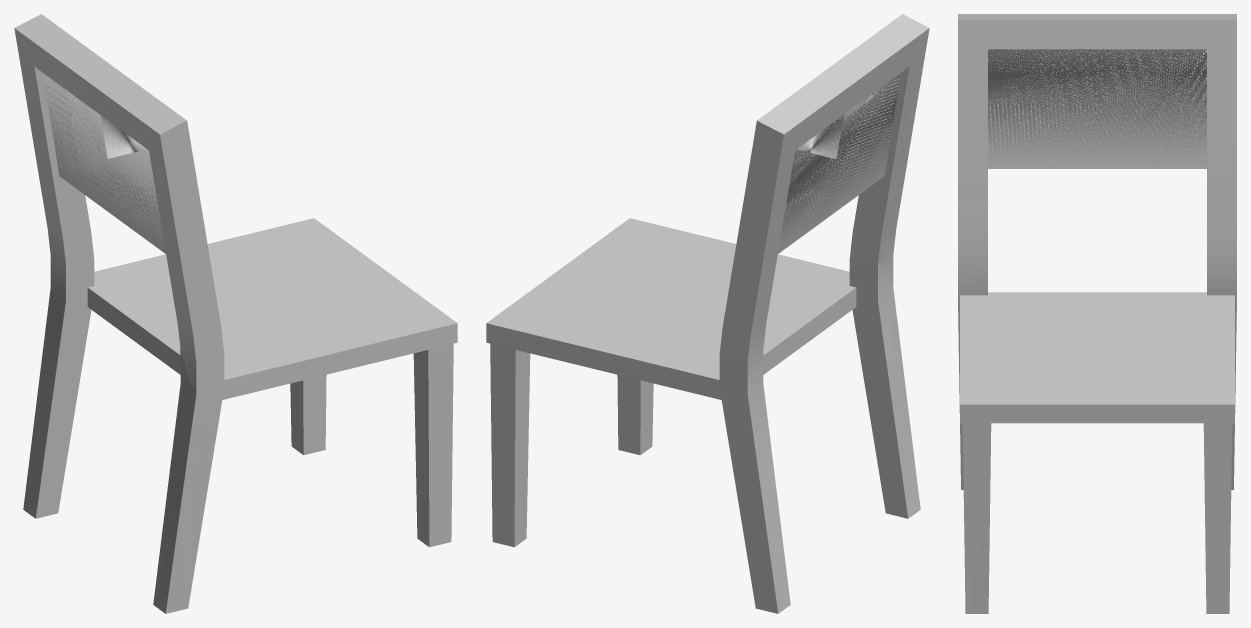
The model's file is Chair 1.fbx.
3 renders of one model, left to right at view 1: azimuth 30°, elevation 25°; view 2: azimuth 150°, elevation 25°; view 3: azimuth 270°, elevation 25°, orthographic. The views are drawn at different scales.
Parts seen in each view (by area): view 1: TeaChair_04.005, TeaChair_04.003, TeaChair_04.003_cell.003, TeaChair_04.004, TeaChair_04.003_cell.004, TeaChair_04.003_cell.005, TeaChair_04.005_cell.002, TeaChair_04.003_cell.001, TeaChair_04.005_cell.003, TeaChair_04.001_cell.001, TeaChair_04.002, TeaChair_04.005_cell.001 (+6 smaller); view 2: TeaChair_04.003, TeaChair_04.005, TeaChair_04.004, TeaChair_04.002, TeaChair_04.005_cell.003, TeaChair_04.003_cell.003, TeaChair_04.003_cell.002, TeaChair_04.003_cell.004, TeaChair_04.001, TeaChair_04.003_cell.001, TeaChair_04.005_cell.001, TeaChair_04.004_cell.002 (+2 smaller); view 3: TeaChair_04.005, TeaChair_04.004, TeaChair_04.005_cell.001, TeaChair_04.003, TeaChair_04.003_cell, TeaChair_04.003_cell.002, TeaChair_04.002, TeaChair_04.003_cell.004, TeaChair_04.005_cell.003, TeaChair_04.001, TeaChair_04.003_cell.003, TeaChair_04.001_cell.001.
Part boxes in pixels (bbox=[...]): TeaChair_04.005: bbox=[87, 224, 457, 379]; TeaChair_04.003: bbox=[14, 14, 224, 613]; TeaChair_04.003_cell.003: bbox=[88, 82, 224, 392]; TeaChair_04.004: bbox=[43, 73, 165, 253]; TeaChair_04.003_cell.004: bbox=[40, 138, 94, 375]; TeaChair_04.003_cell.005: bbox=[153, 442, 214, 613]; TeaChair_04.005_cell.002: bbox=[145, 323, 457, 399]; TeaChair_04.003_cell.001: bbox=[23, 370, 81, 518]; TeaChair_04.005_cell.003: bbox=[87, 254, 264, 348]; TeaChair_04.001_cell.001: bbox=[415, 431, 451, 547]; TeaChair_04.002: bbox=[290, 374, 326, 455]; TeaChair_04.005_cell.001: bbox=[208, 227, 450, 318]; TeaChair_04.003: bbox=[719, 14, 929, 613]; TeaChair_04.005: bbox=[486, 218, 856, 399]; TeaChair_04.004: bbox=[778, 73, 900, 253]; TeaChair_04.002: bbox=[490, 343, 530, 547]; TeaChair_04.005_cell.003: bbox=[607, 300, 798, 379]; TeaChair_04.003_cell.003: bbox=[852, 28, 929, 284]; TeaChair_04.003_cell.002: bbox=[757, 70, 855, 228]; TeaChair_04.003_cell.004: bbox=[747, 286, 772, 473]; TeaChair_04.001: bbox=[617, 374, 653, 454]; TeaChair_04.003_cell.001: bbox=[741, 462, 790, 613]; TeaChair_04.005_cell.001: bbox=[530, 223, 650, 293]; TeaChair_04.004_cell.002: bbox=[797, 115, 843, 159]; TeaChair_04.005: bbox=[960, 292, 1234, 423]; TeaChair_04.004: bbox=[988, 49, 1206, 168]; TeaChair_04.005_cell.001: bbox=[972, 349, 1234, 423]; TeaChair_04.003: bbox=[958, 14, 1236, 489]; TeaChair_04.003_cell: bbox=[958, 19, 1098, 183]; TeaChair_04.003_cell.002: bbox=[1099, 19, 1236, 129]; TeaChair_04.002: bbox=[1203, 423, 1232, 613]; TeaChair_04.003_cell.004: bbox=[1207, 130, 1236, 297]; TeaChair_04.005_cell.003: bbox=[1098, 292, 1230, 348]; TeaChair_04.001: bbox=[962, 423, 991, 613]; TeaChair_04.003_cell.003: bbox=[958, 199, 987, 294]; TeaChair_04.001_cell.001: bbox=[970, 513, 989, 613].
Bounding box in the file's own units: 0.4274 × 0.6695 × 0.361.
